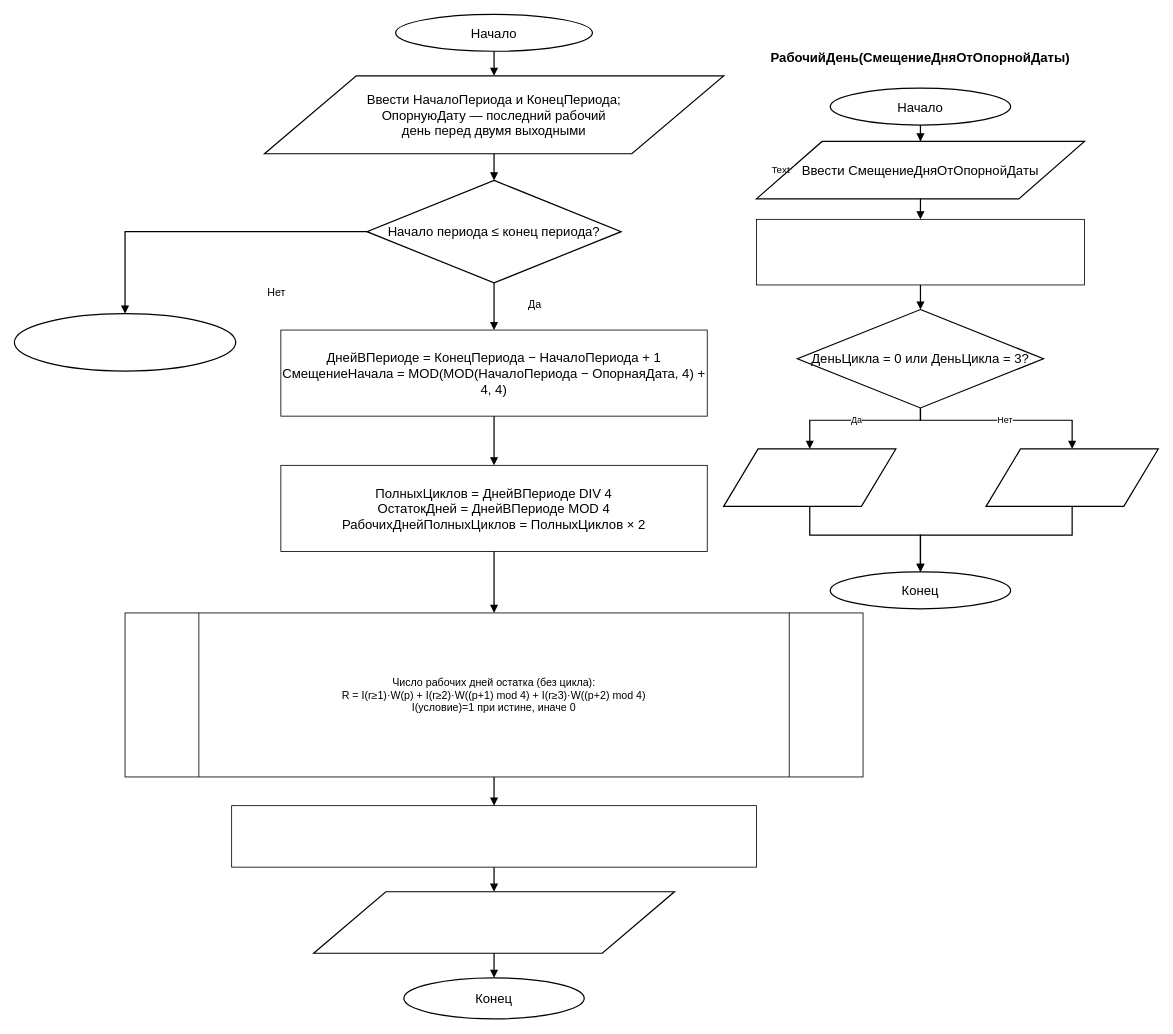
The diagram is 1173 pixels wide and 1034 high, and some of its shapes have lost their labels. Here are the shapes that lost their labels. From the top down, the centre of each, then its label:
At [920,252]: "ДеньЦикла = MOD(MOD(СмещениеДняОтОпорнойДаты, 4) + 4, 4)".
At [124,342]: "Ошибка: неверный период".
At [809,477]: "Вернуть 1".
At [1071,477]: "Вернуть 0".
At [493,836]: "ВсегоРабочихДней = РабочихДнейПолныхЦиклов + РабочихДнейОстатка".
At [494,922]: "Вывести ответ".
